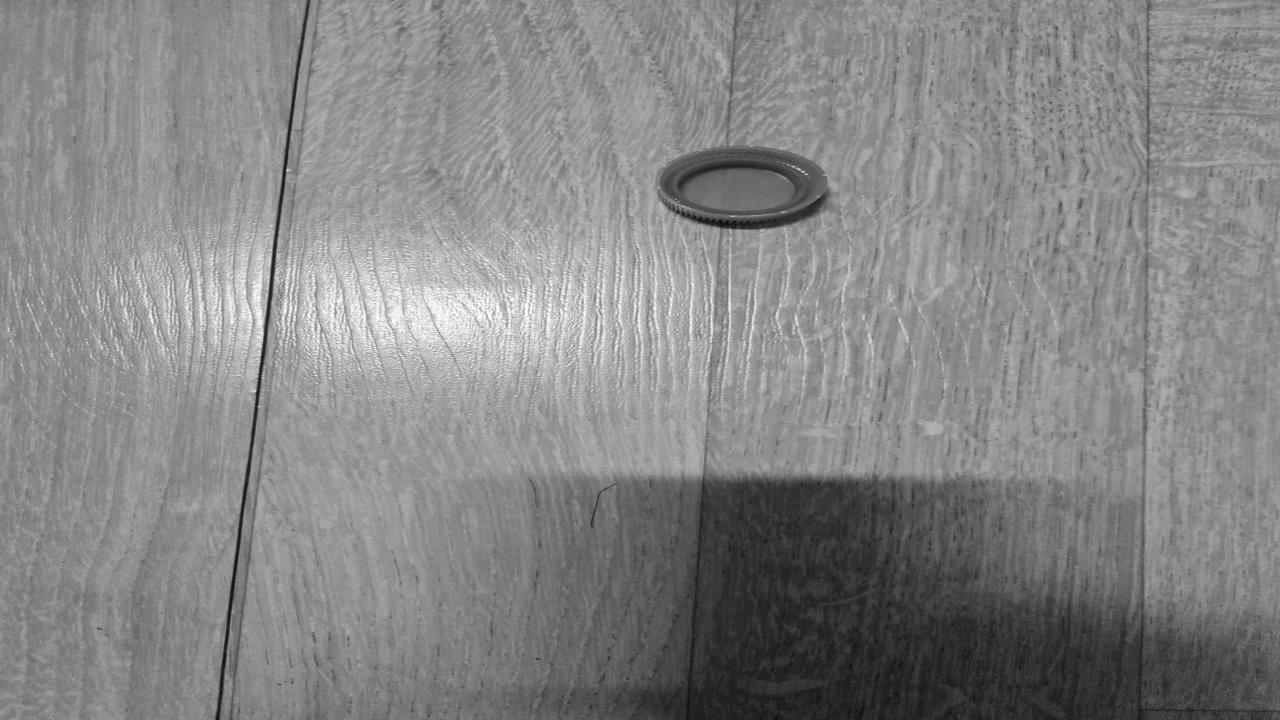bottle_cap: (660, 146, 821, 221)
